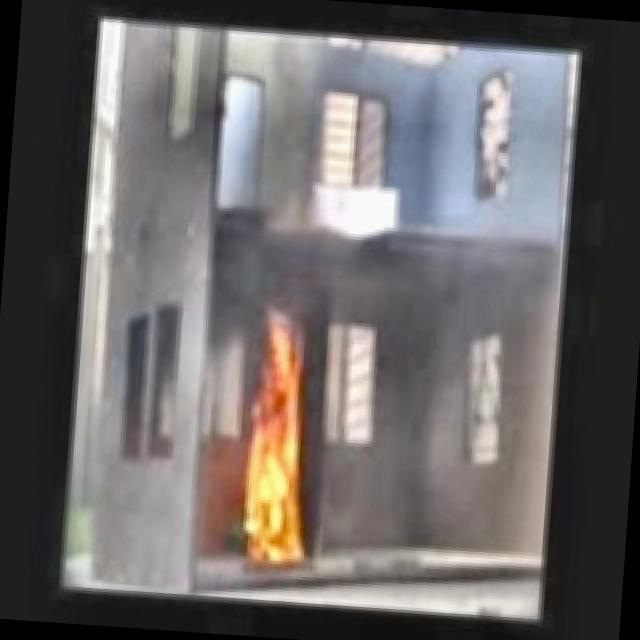fire: (228, 309, 319, 562)
